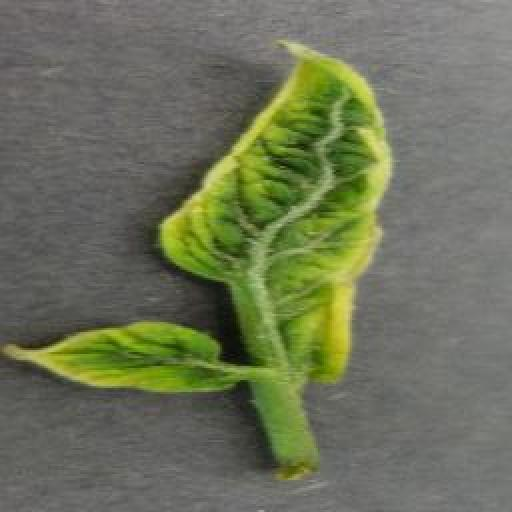disease_tomato: (163, 35, 392, 385), (4, 312, 235, 399)
